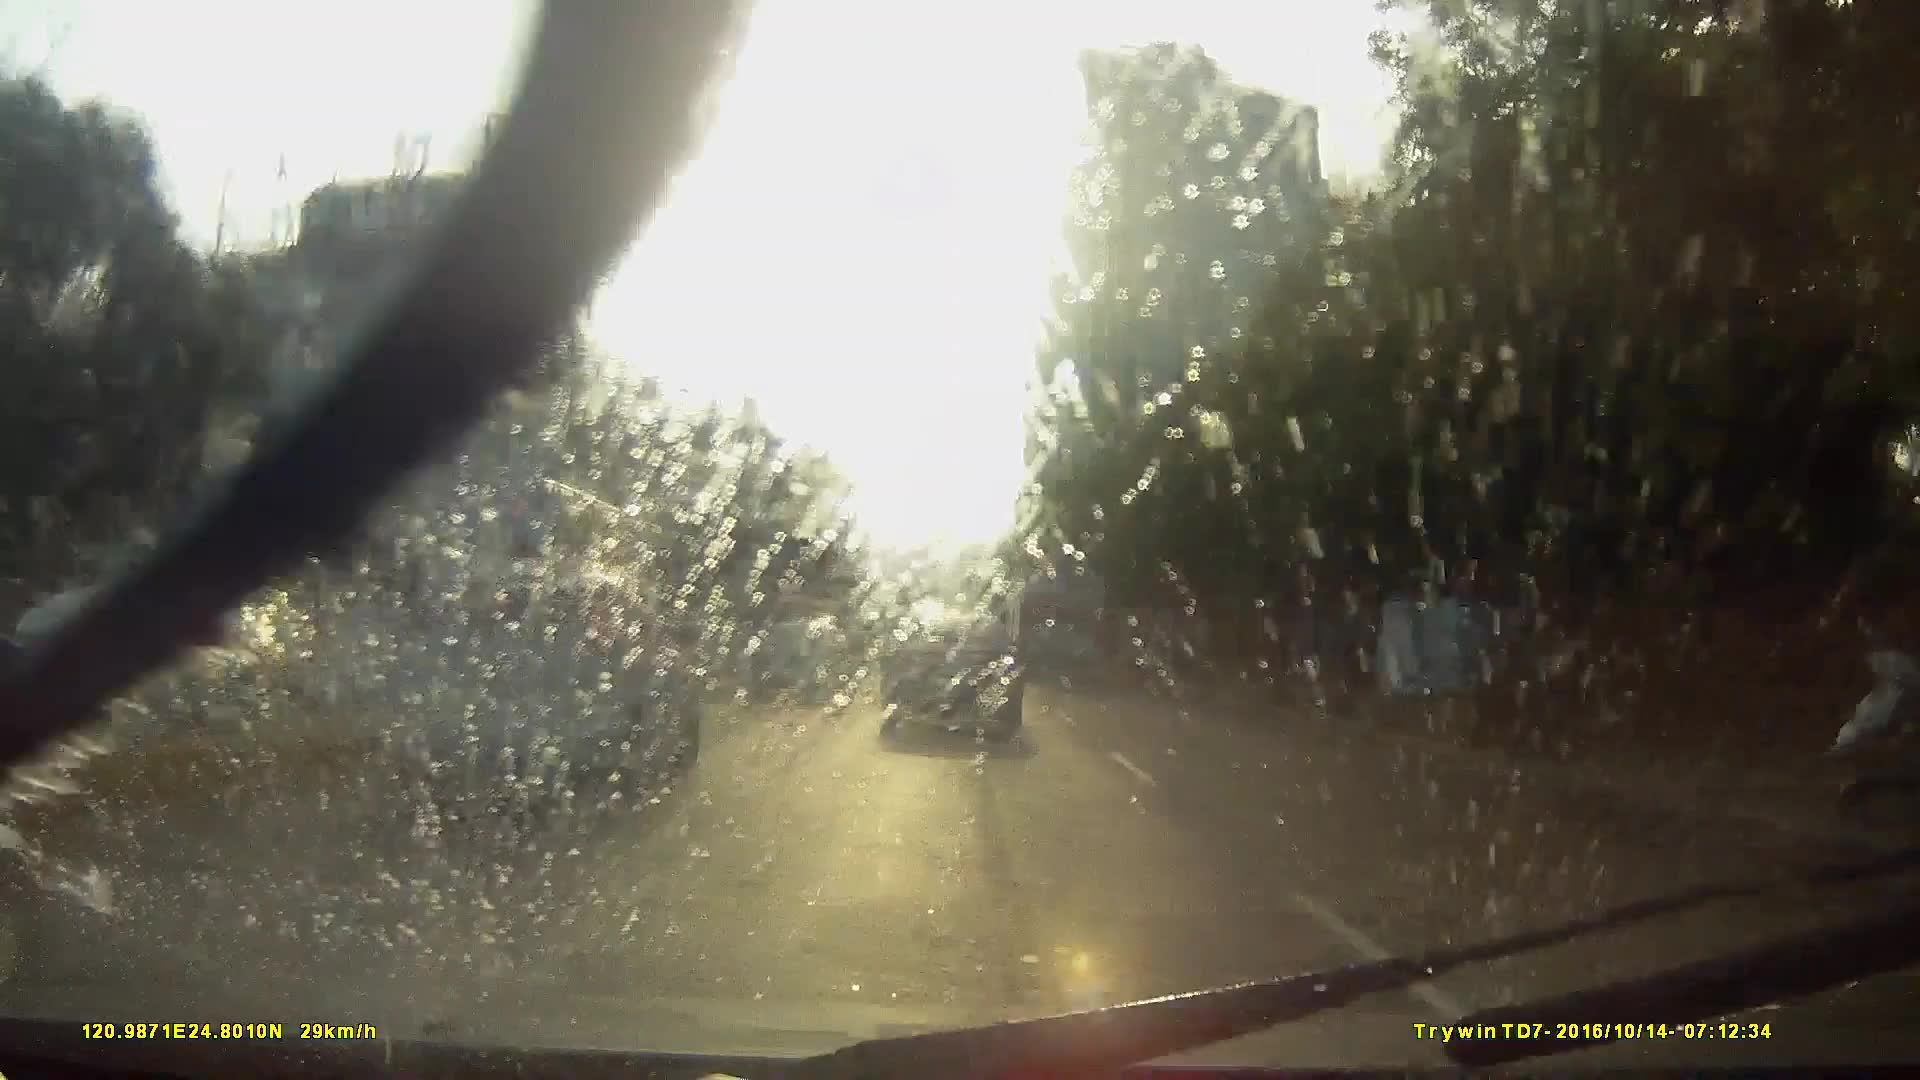vehicle: (251, 556, 684, 868), (348, 463, 696, 717), (393, 554, 702, 791), (881, 604, 1021, 752), (1000, 560, 1105, 687), (741, 618, 849, 704), (866, 638, 915, 687)
